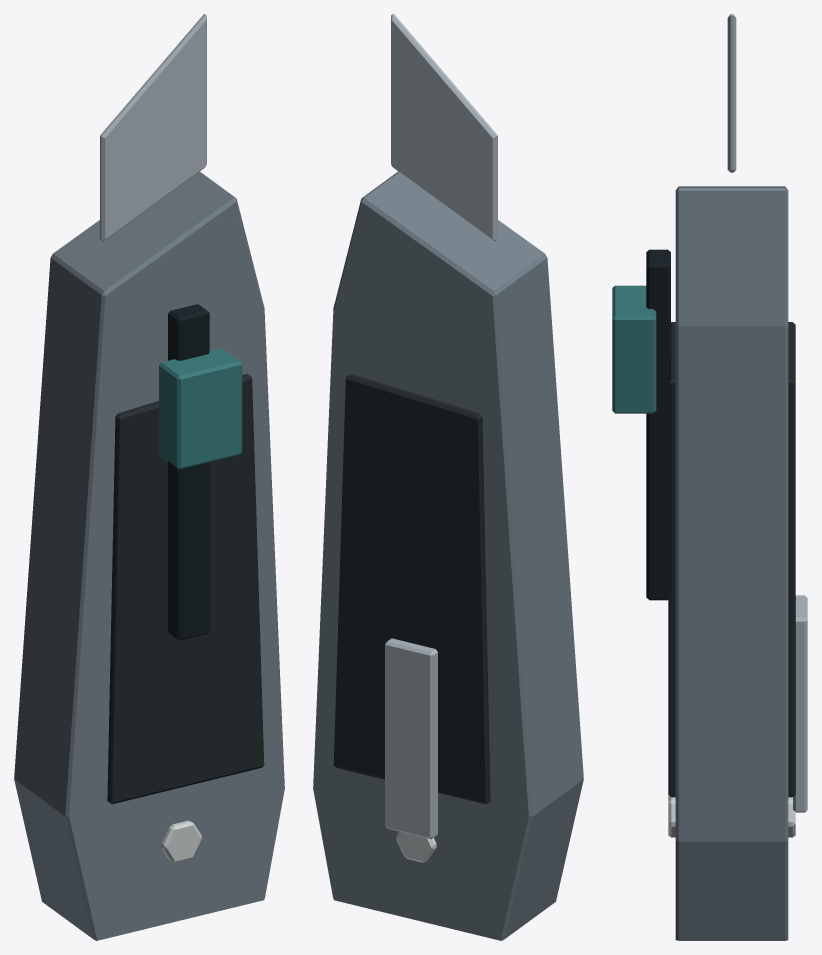
The model's file is b06_utility_knife.glb.
3 renders of one model, left to right at view 1: azimuth 30°, elevation 25°; view 2: azimuth 150°, elevation 25°; view 3: azimuth 270°, elevation 25°, orthographic. The views are drawn at different scales.
Visible parts, largest first — view 1: b06_utility_knife; view 2: b06_utility_knife; view 3: b06_utility_knife.
Boxes of the visible parts, x1,y1,x2,y2 form: b06_utility_knife: [14, 14, 284, 940]; b06_utility_knife: [313, 14, 583, 940]; b06_utility_knife: [612, 14, 807, 940].
Bounding box in the file's own units: 0.054 × 0.2056 × 0.04.
